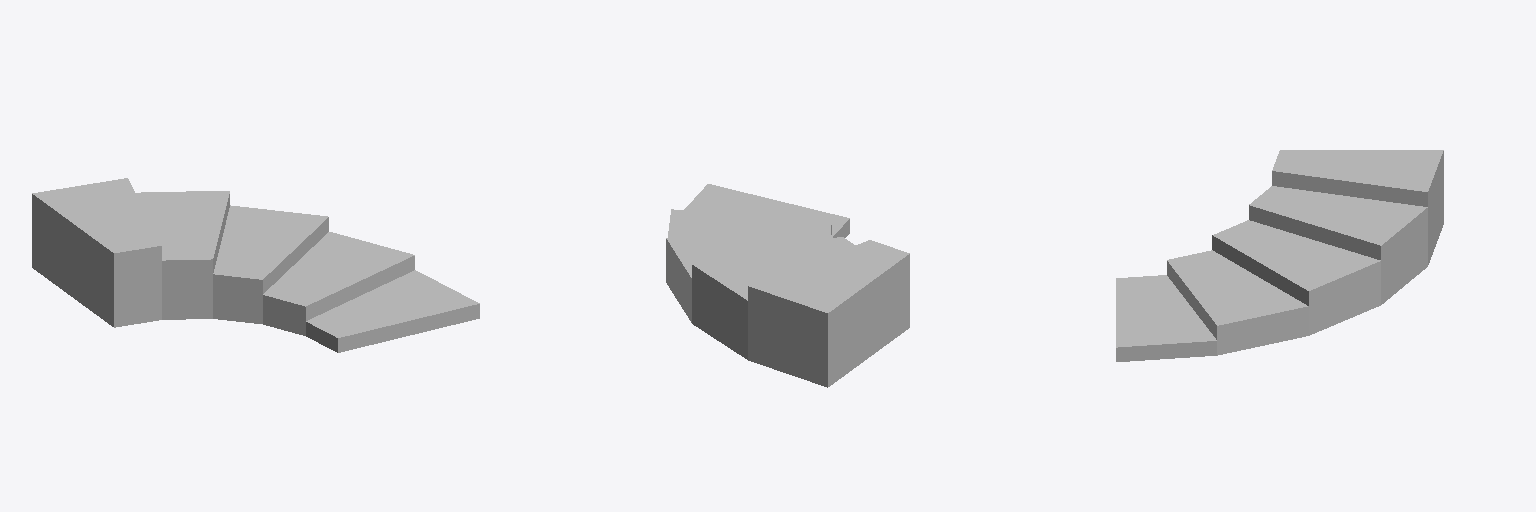
The model's file is Steps_Curved_Outer.obj.
The picture shows the model from 3 angles: view 1: azimuth 30°, elevation 25°; view 2: azimuth 150°, elevation 25°; view 3: azimuth 270°, elevation 25°; orthographic projection.
Parts seen in each view (by area): view 1: object1; view 2: object1; view 3: object1.
Part boxes in pixels (x1,y1,x2,y2): object1: (32,178,479,352); object1: (666,184,909,387); object1: (1116,150,1443,361).
Size of the model in its own units: 2 by 0.5 by 2.